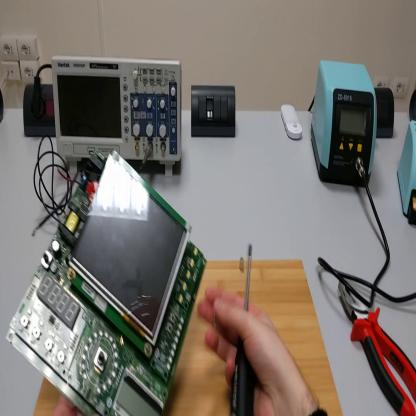hand: (196, 285, 305, 416)
low voltage board: (6, 152, 211, 416)
oscilloscope: (51, 56, 184, 180)
pliers: (338, 279, 416, 415)
screwdriver-: (231, 244, 254, 414)
socket: (24, 83, 55, 139), (376, 86, 395, 141), (1, 86, 7, 128), (409, 88, 415, 121)
welder base: (398, 120, 416, 228)
welder station: (309, 61, 376, 188)
working area: (36, 260, 342, 416)
